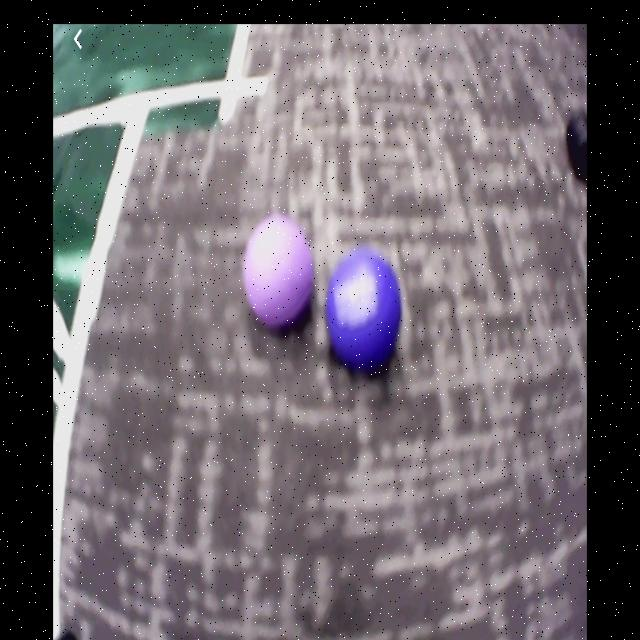ball: (325, 253, 402, 370), (247, 218, 317, 331)
